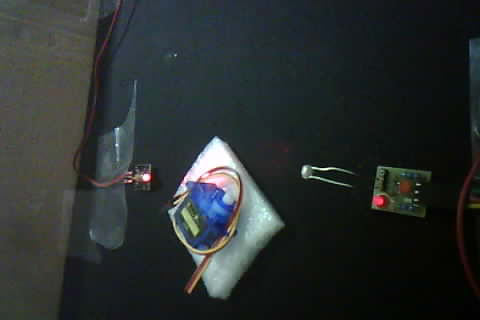motor: (160, 142, 274, 300)
